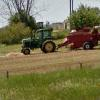Tractor: (17, 16, 73, 57)
